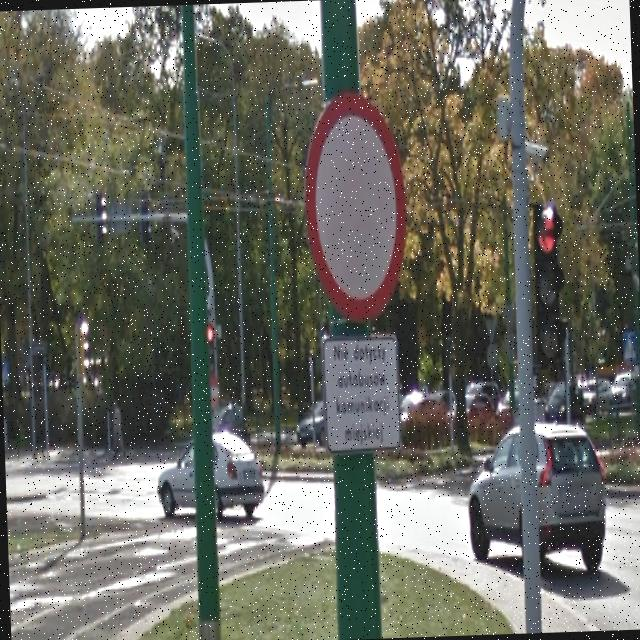Zakaz ruchu w obu kierunkach: (298, 92, 408, 322)
